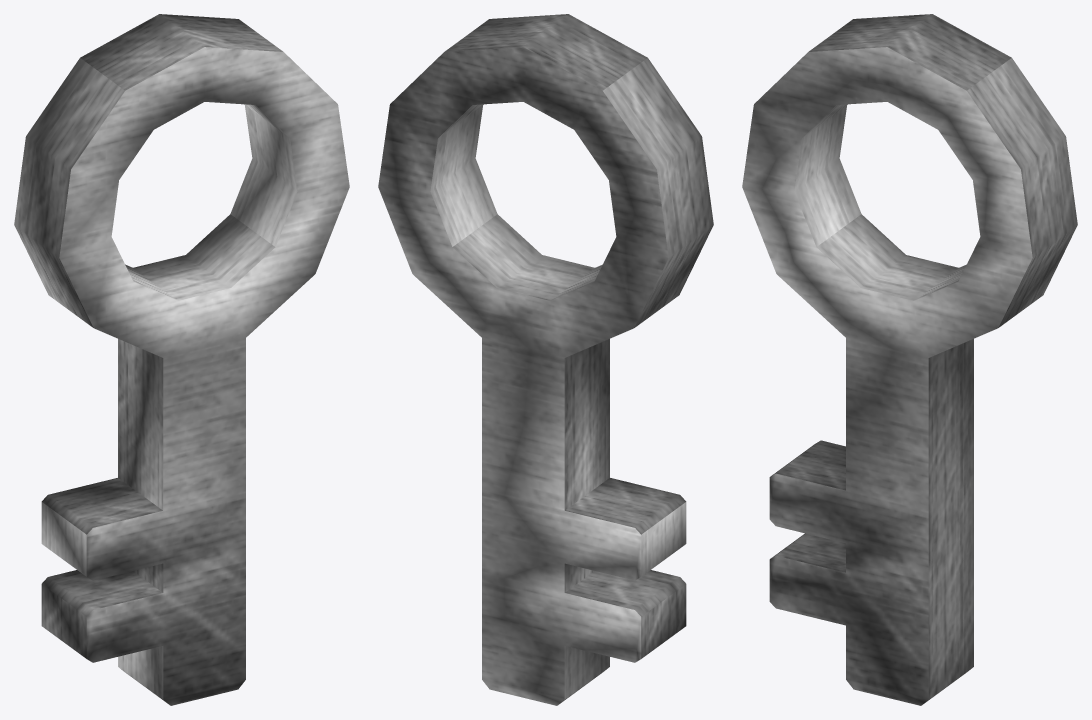
The model's file is key.fbx.
The picture shows the model from 3 angles, left to right: view 1: azimuth 30°, elevation 25°; view 2: azimuth 150°, elevation 25°; view 3: azimuth 330°, elevation 25°; orthographic projection.
Visible parts, largest first — view 1: obj1; view 2: obj1; view 3: obj1.
Boxes of the visible parts, left/top/right/bottom form: obj1: left=14, top=14, right=349, bottom=705; obj1: left=378, top=14, right=713, bottom=705; obj1: left=742, top=14, right=1077, bottom=705.
Size of the model in its own units: 1.18 by 2.52 by 0.3175.
1 material, 1 textured.
